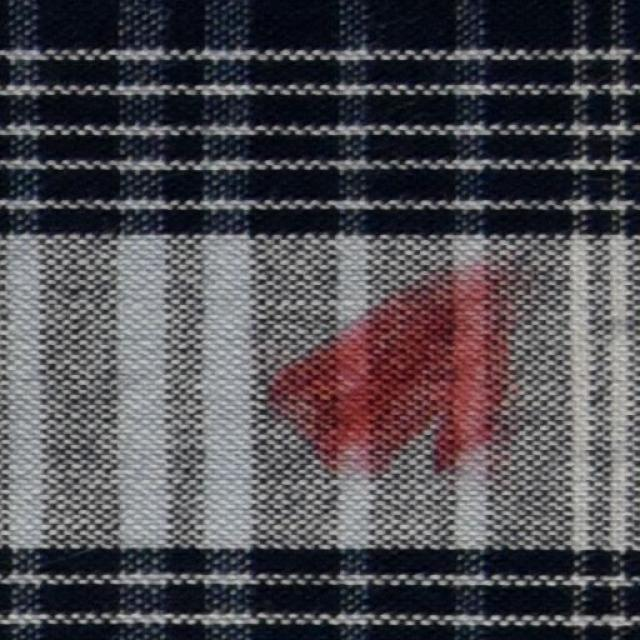Stain: (248, 266, 542, 508)
